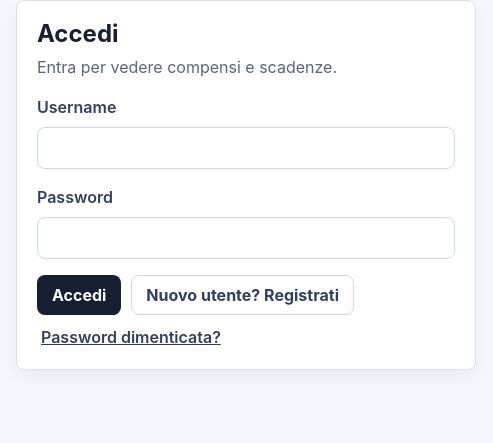
Test: Login › switches to registration and password recovery
Click the button "Nuovo utente? Registrati" at (243,295), box [131,275,354,315]
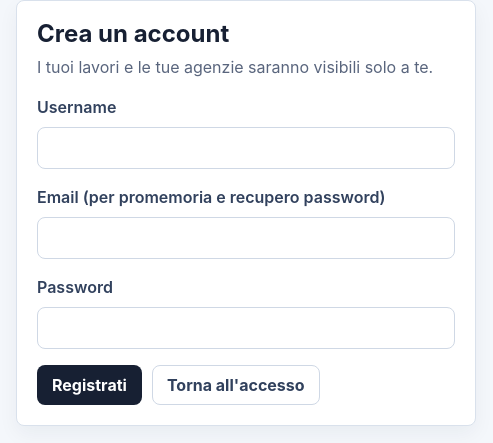
Check: the heading "Crea un account" is shown, box [37,19,229,48]
Click the button "Torna all'accesso" at (236,385), box [152,365,320,405]
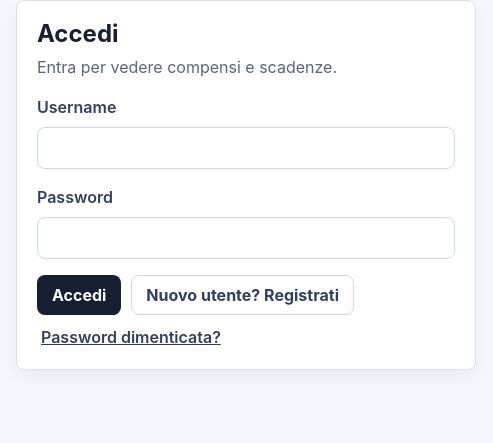
Click the button "Password dimenticata?" at (131,337), box [37,325,225,349]
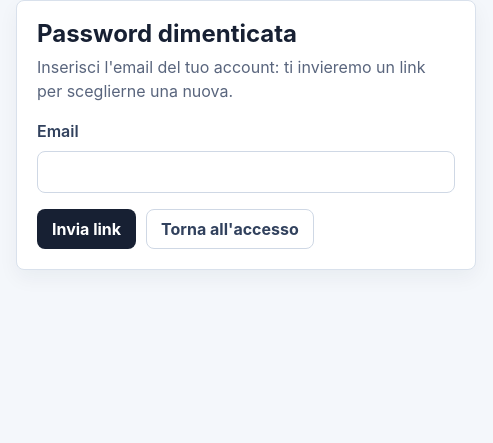
Check: the heading "Password dimenticata" is shown, box [37,19,297,48]
